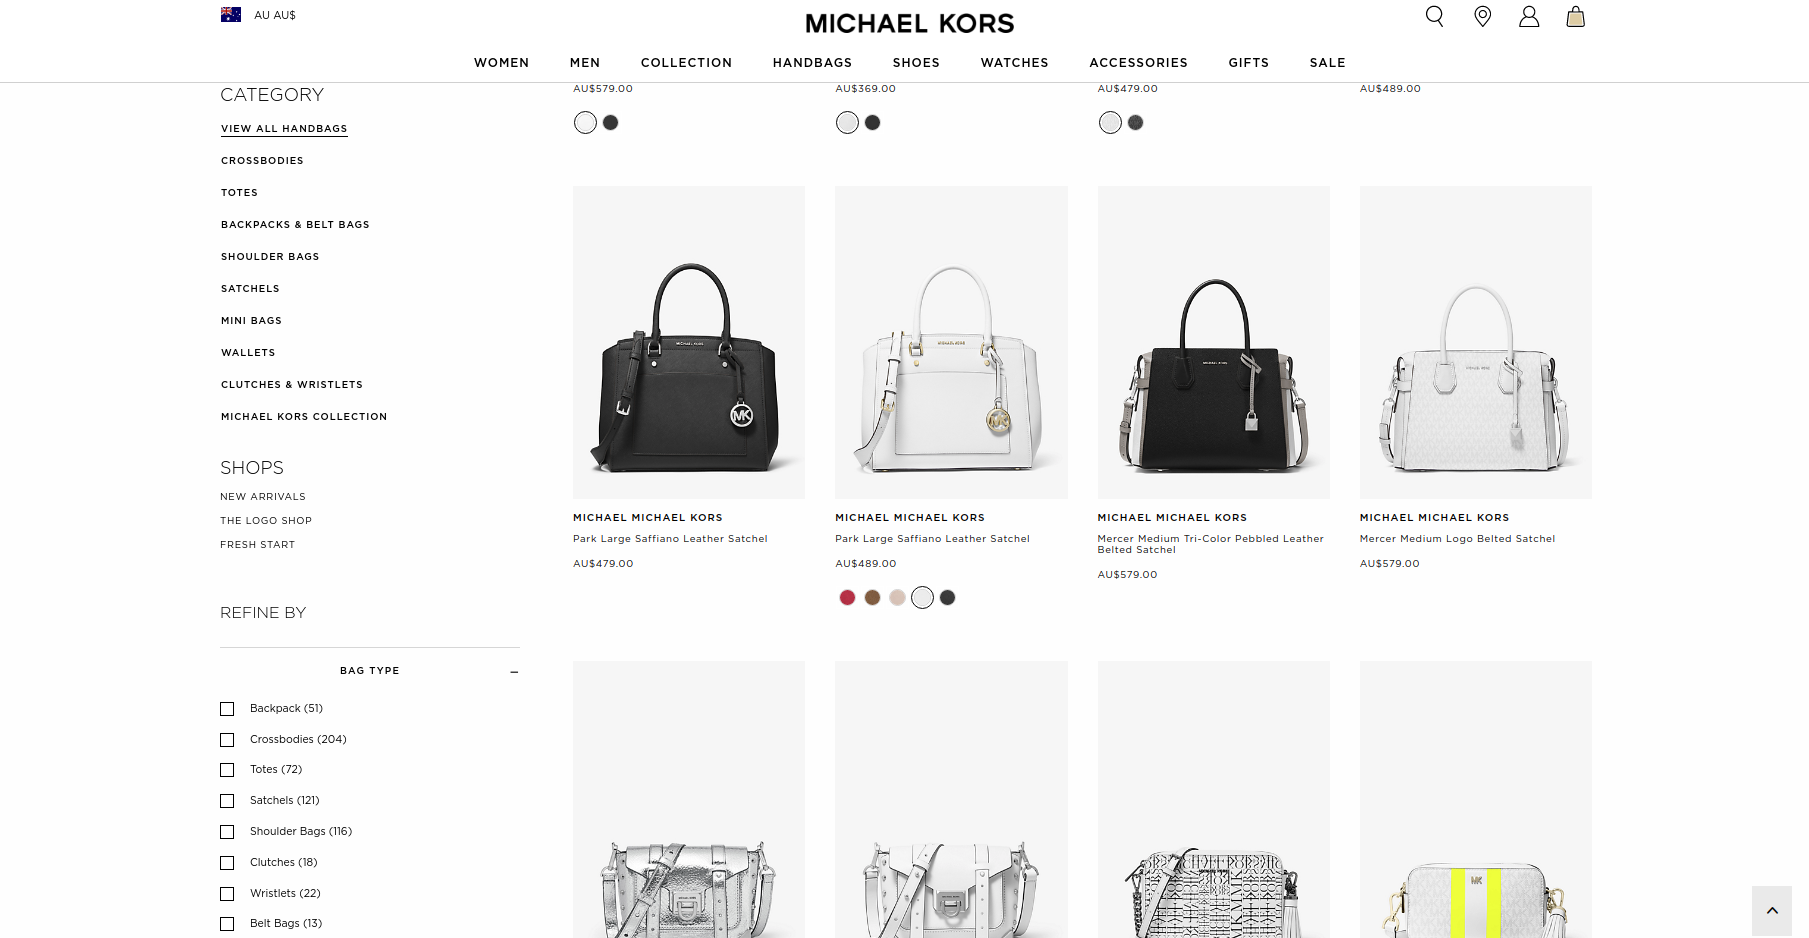Michael Kors: (981, 409, 1021, 435), (724, 401, 757, 431)
